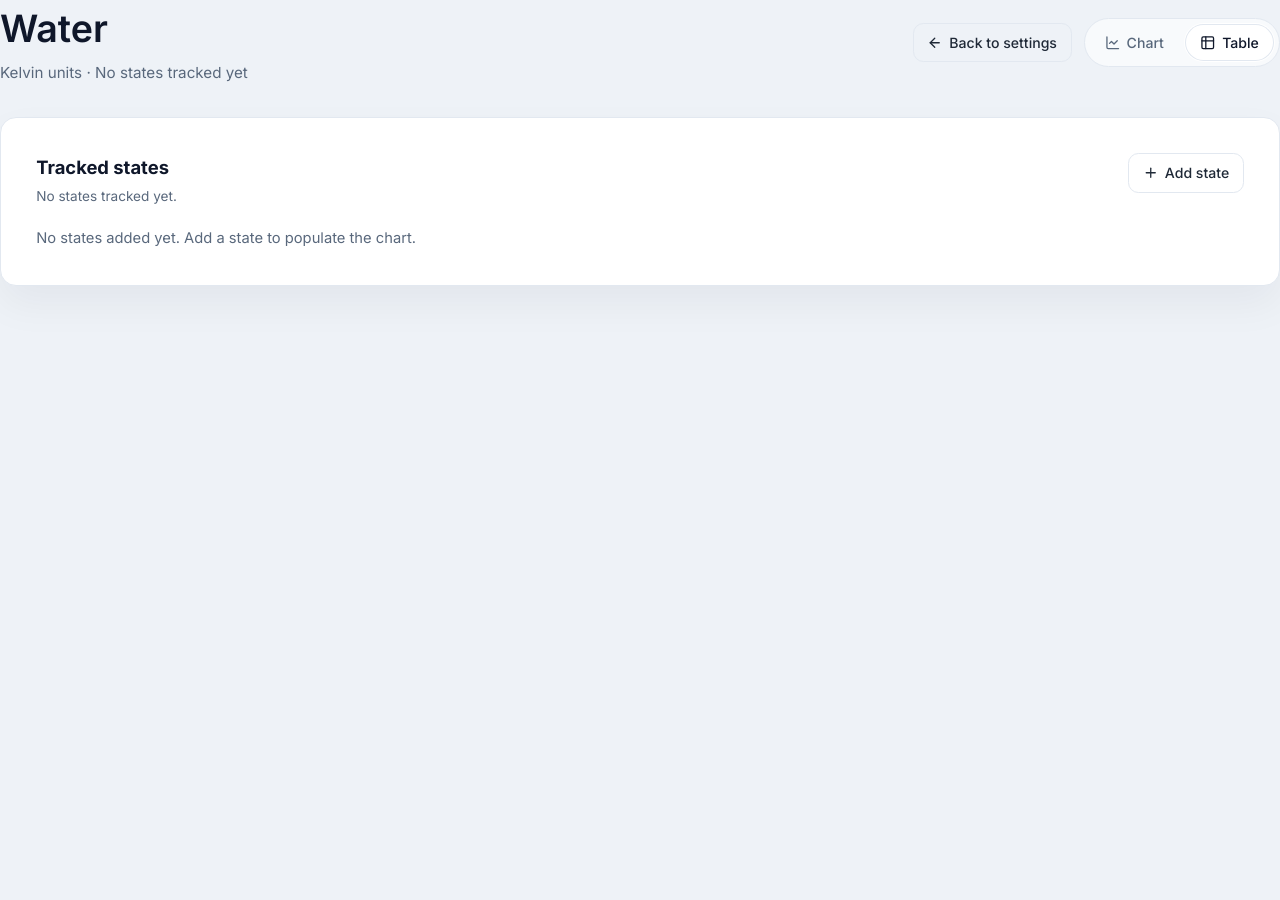
Test case: WorkspaceView › add state › keeps an unsolvable pick and explains the input it changed
This screenshot has width=1280, height=900.
Step 1. Click the button "Add state" → (1186, 173), box [1128,153,1244,193]
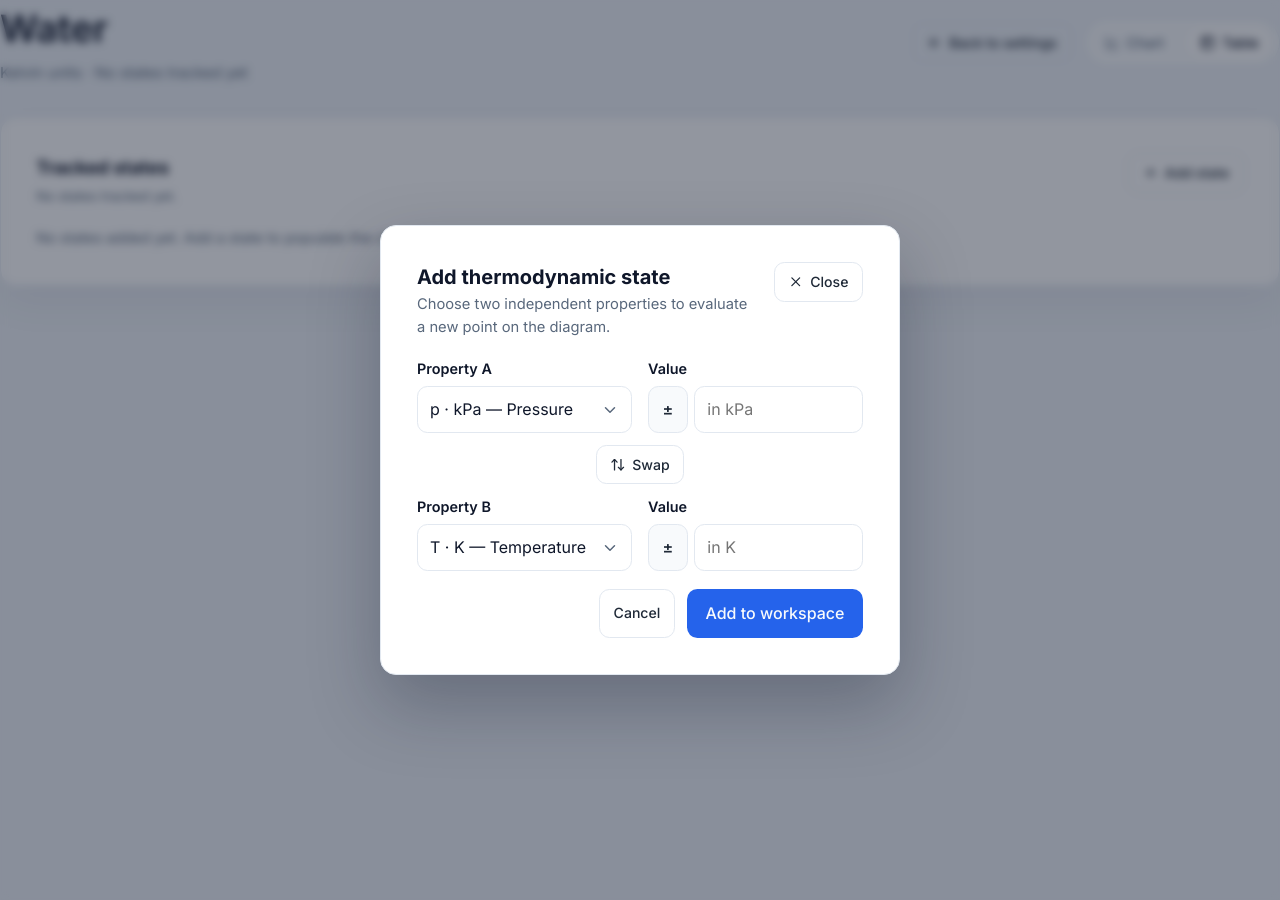
Result: the dropdown labelled "Property A" is shown at [417,386,632,433]
Step 2. Type "300" into the field labelled "Value" below "Property B" → (779, 547), box [694,524,863,571]
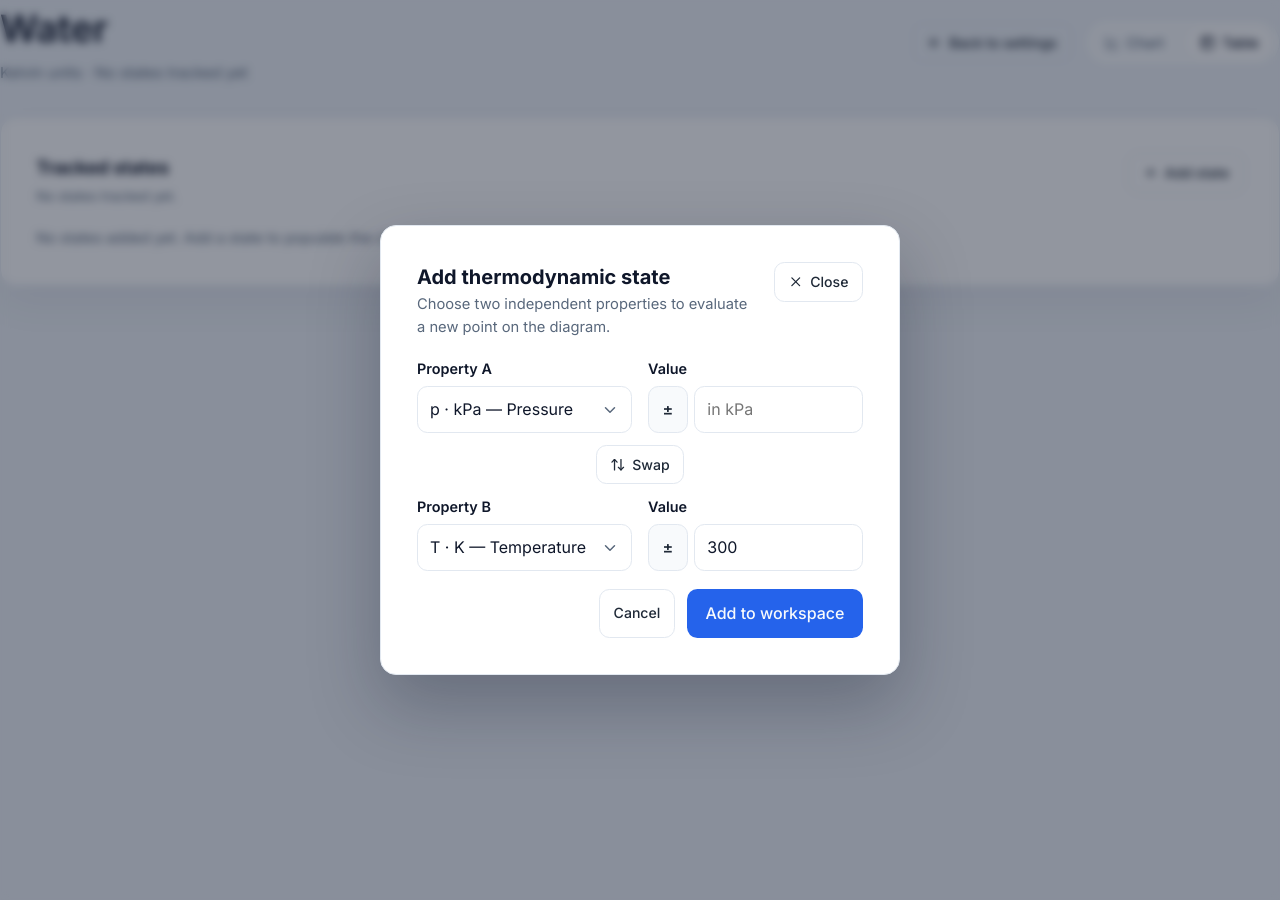
Step 3. Select "h · kJ/kg — Specific enthalpy" in the dropdown labelled "Property A" → (524, 410), box [417,386,632,433]
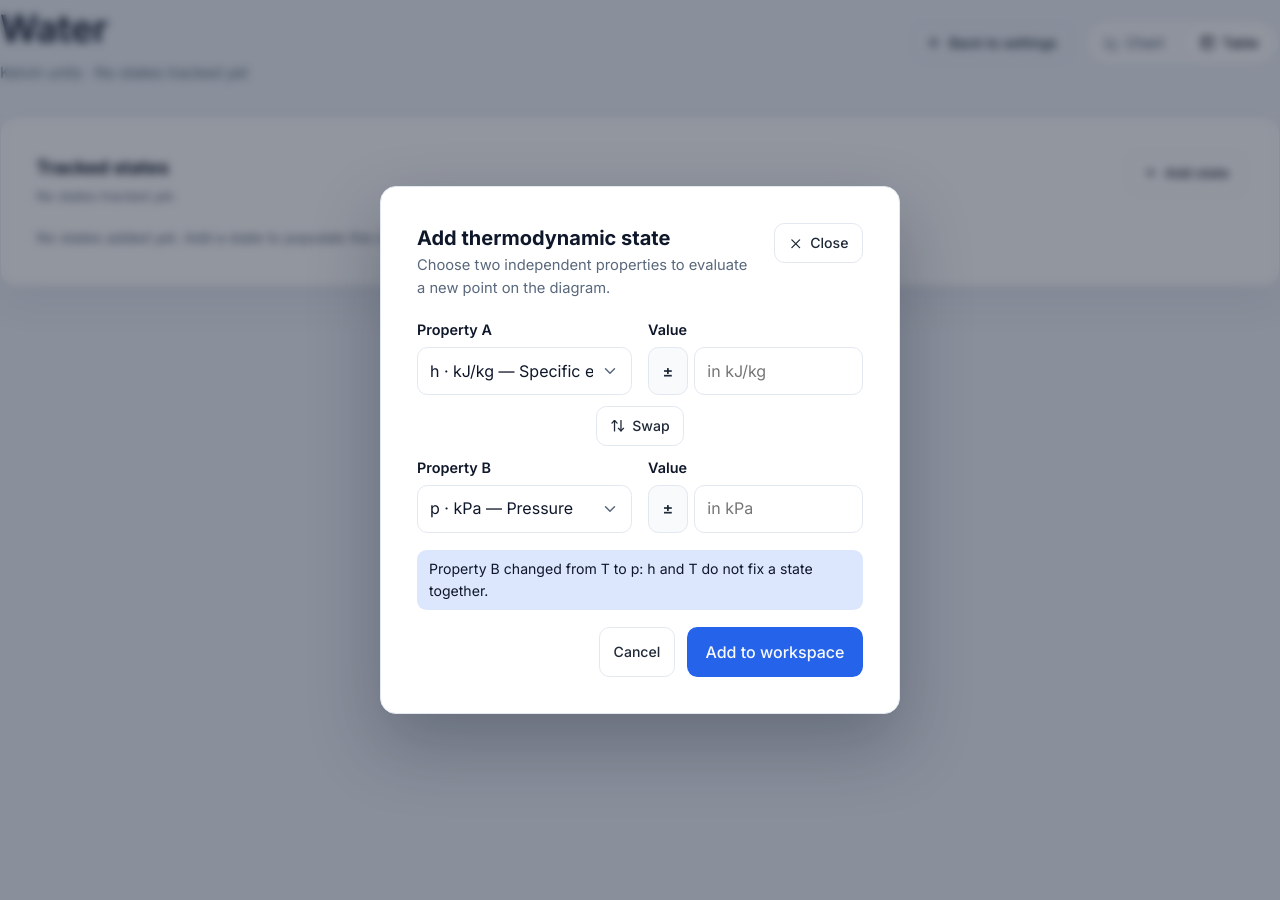
Result: the 2nd field labelled "Value" is empty at [694,485,863,532]
Result: the message reads "Property B changed from T to p: h and T do not fix a state together." at [429,560,813,599]
Step 4. Select "s · kJ/(kg·K) — Specific entropy" in the dropdown labelled "Property B" → (524, 509), box [417,485,632,532]
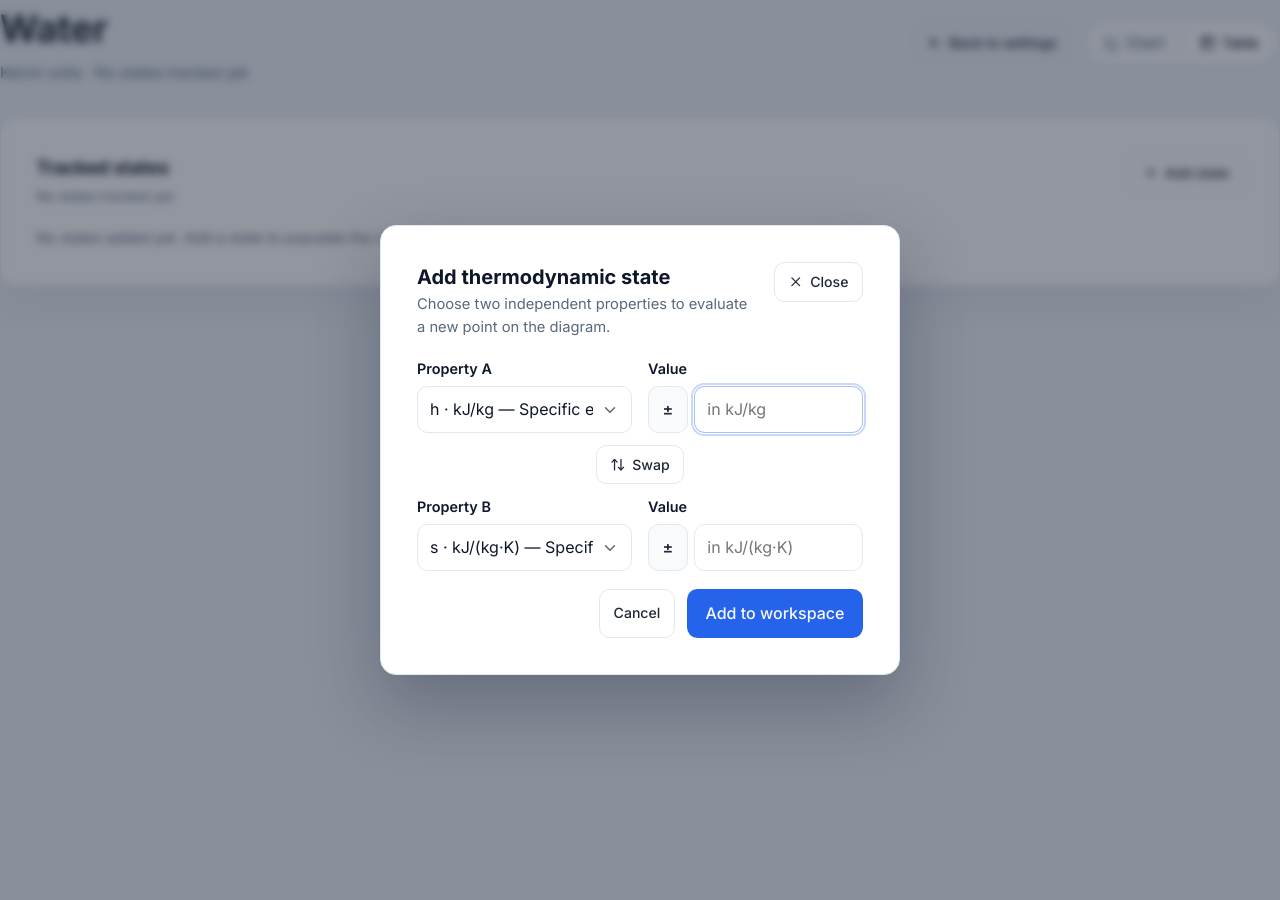
Result: the message "Property B changed from T to p: h and T do not fix a state together." is gone
